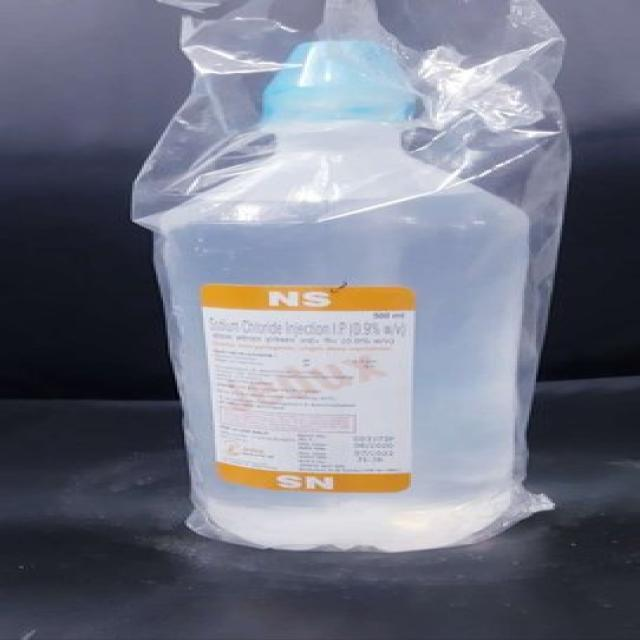B3: (95, 0, 596, 601)
